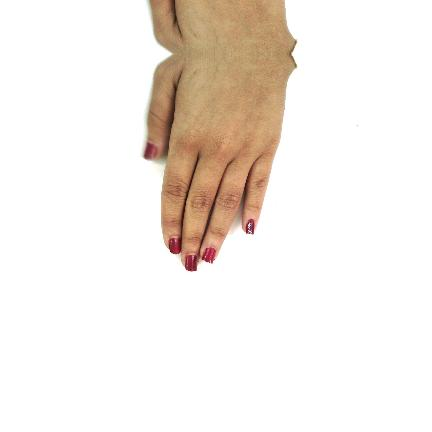Nail: (143, 141, 158, 160), (202, 247, 216, 264), (169, 238, 181, 254), (186, 255, 197, 272), (246, 219, 255, 234)
